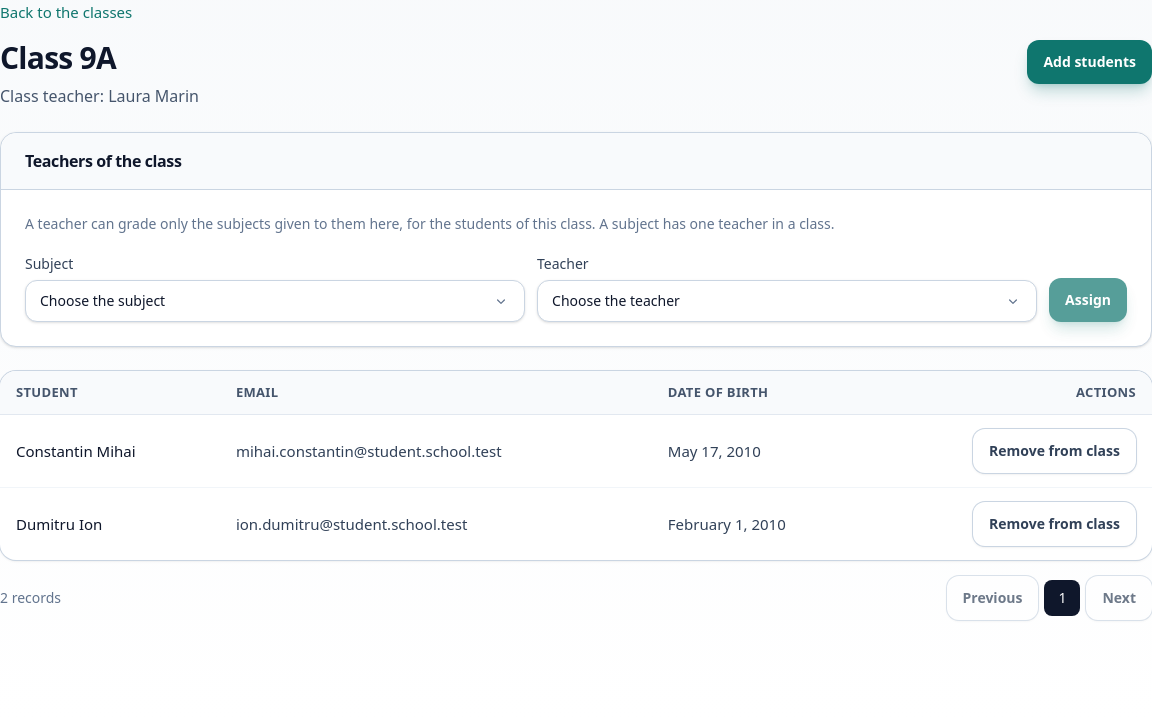
Scenario: AdminClassStudentsPage › lists only the students without a class in the add window
expect the heading "Class 9A" is shown: met, box [0,36,116,78]
Click the button "Add students" at (1090, 62), box [1027,40,1151,84]
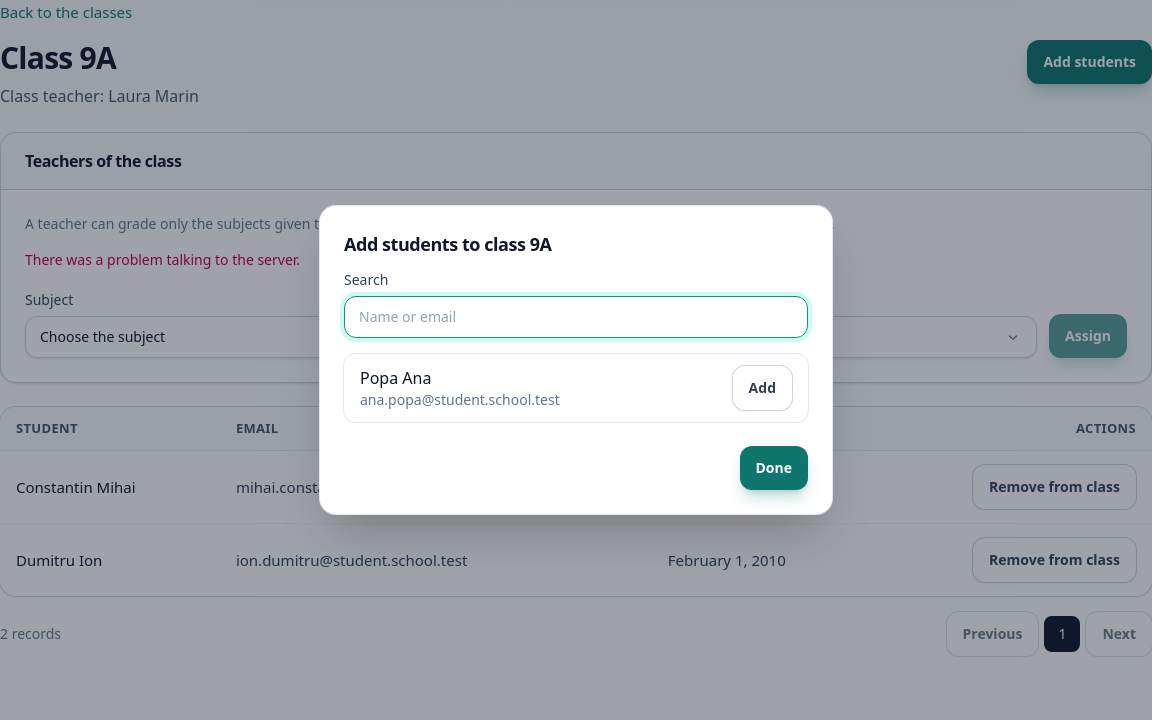
expect the text "Popa Ana" is shown: met, box [360,367,432,389]
